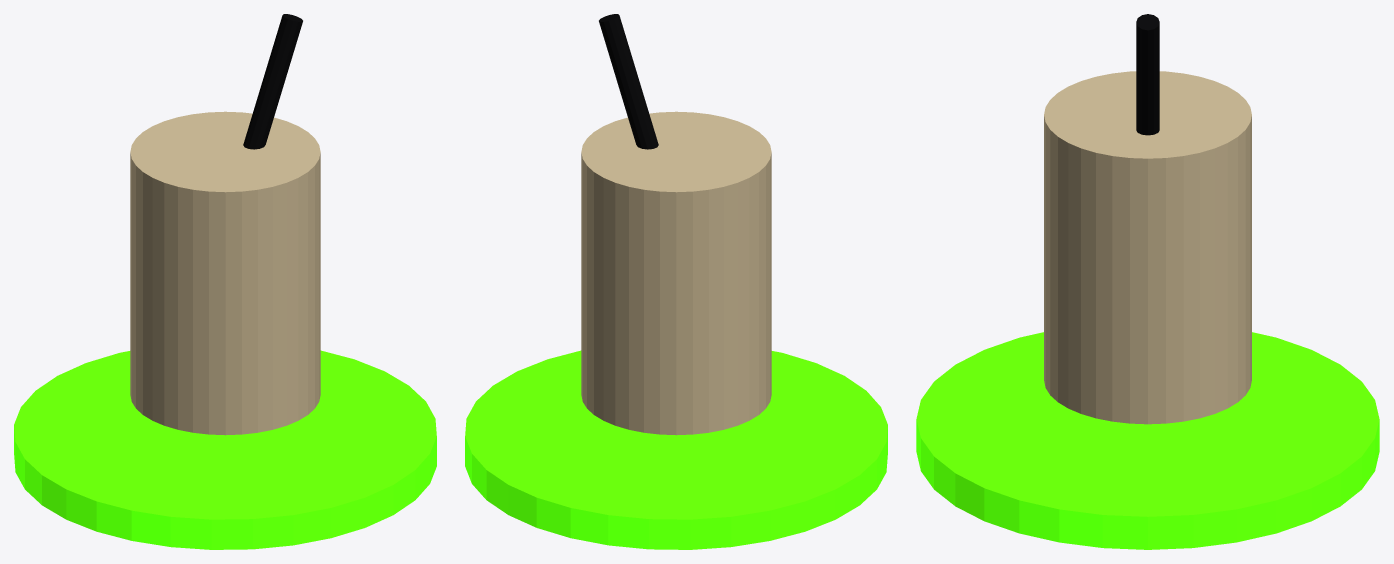
Rendered from food_boba_tea.dae.
The picture shows the model from 3 angles, left to right: view 1: azimuth 30°, elevation 25°; view 2: azimuth 150°, elevation 25°; view 3: azimuth 270°, elevation 25°; orthographic projection. The views are drawn at different scales.
Visible parts, largest first — view 1: 01_12_Popular_Food_Boba_Tea_part_01, 01_12_Popular_Food_Boba_Tea_ROOT_base, 01_12_Popular_Food_Boba_Tea_part_02; view 2: 01_12_Popular_Food_Boba_Tea_part_01, 01_12_Popular_Food_Boba_Tea_ROOT_base, 01_12_Popular_Food_Boba_Tea_part_02; view 3: 01_12_Popular_Food_Boba_Tea_part_01, 01_12_Popular_Food_Boba_Tea_ROOT_base, 01_12_Popular_Food_Boba_Tea_part_02.
Boxes of the visible parts, x1=… form: 01_12_Popular_Food_Boba_Tea_part_01: x1=130, y1=111, x2=320, y2=435; 01_12_Popular_Food_Boba_Tea_ROOT_base: x1=14, y1=350, x2=436, y2=549; 01_12_Popular_Food_Boba_Tea_part_02: x1=243, y1=14, x2=302, y2=149; 01_12_Popular_Food_Boba_Tea_part_01: x1=581, y1=111, x2=771, y2=435; 01_12_Popular_Food_Boba_Tea_ROOT_base: x1=465, y1=350, x2=887, y2=549; 01_12_Popular_Food_Boba_Tea_part_02: x1=599, y1=14, x2=658, y2=149; 01_12_Popular_Food_Boba_Tea_part_01: x1=1044, y1=71, x2=1251, y2=424; 01_12_Popular_Food_Boba_Tea_ROOT_base: x1=916, y1=332, x2=1379, y2=549; 01_12_Popular_Food_Boba_Tea_part_02: x1=1136, y1=14, x2=1159, y2=135.
Bounding box in the file's own units: 0.76 × 0.85 × 0.76.
